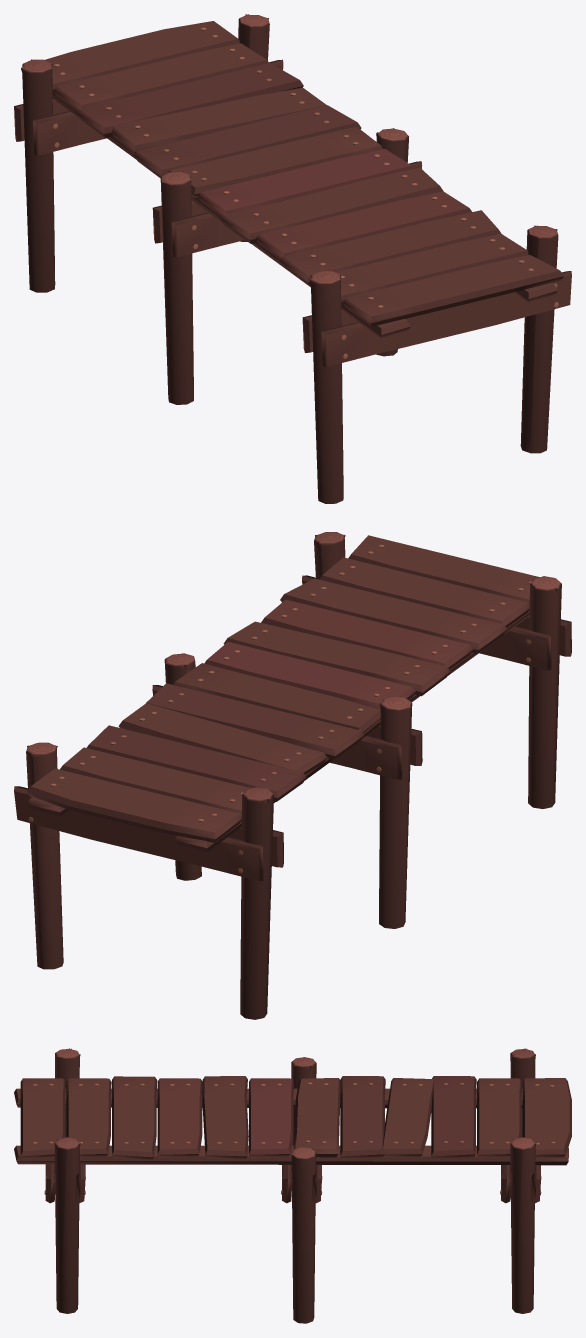
The model's file is BoatBrdige.fbx.
3 renders of one model, top to bottom at view 1: azimuth 30°, elevation 25°; view 2: azimuth 150°, elevation 25°; view 3: azimuth 270°, elevation 25°, orthographic. The views are drawn at different scales.
Parts seen in each view (by area): view 1: Boat_Bridge; view 2: Boat_Bridge; view 3: Boat_Bridge.
Part boxes in pixels (x1,y1,x2,y2): Boat_Bridge: [14, 14, 571, 503]; Boat_Bridge: [14, 532, 571, 1019]; Boat_Bridge: [14, 1048, 571, 1323].
Size of the model in its own units: 287 by 259 by 702.
